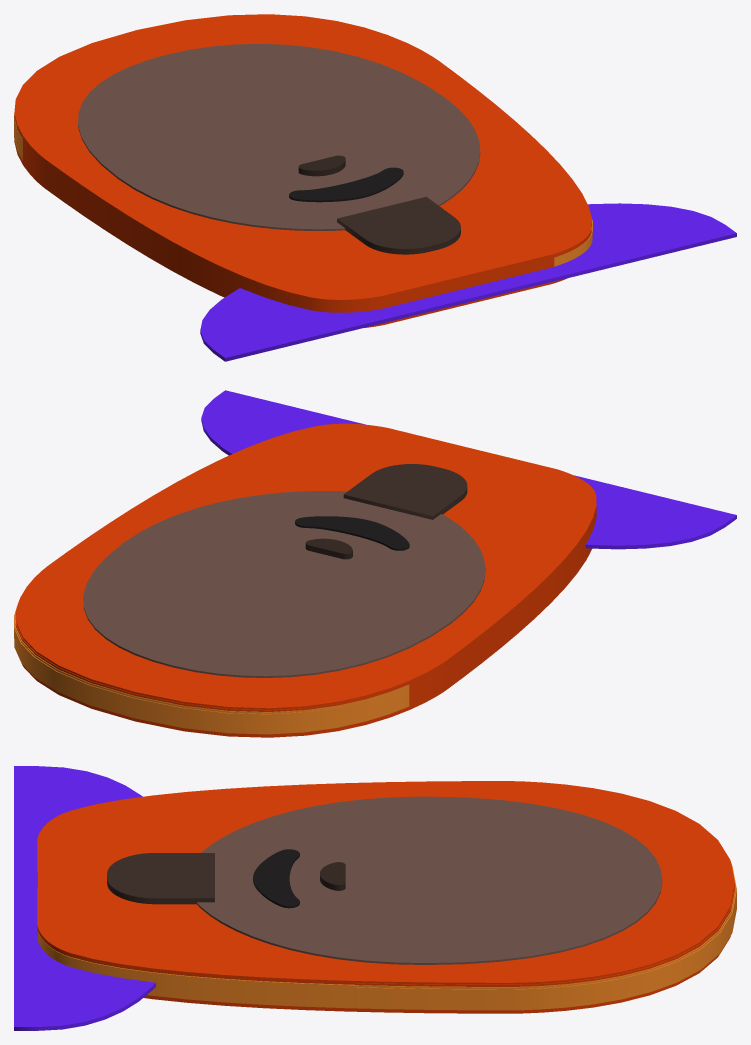
The model's file is emoji_u1f469_1f3ff_200d_1f9b0.glb.
3 views of the same model, one above another, from view 1: azimuth 30°, elevation 25°; view 2: azimuth 150°, elevation 25°; view 3: azimuth 270°, elevation 25° (orthographic). The views are drawn at different scales.
Visible parts, largest first — view 1: emoji_u1f469_1f3ff_200d_1f9b0; view 2: emoji_u1f469_1f3ff_200d_1f9b0; view 3: emoji_u1f469_1f3ff_200d_1f9b0.
Part boxes in pixels (x1,y1,x2,y2): emoji_u1f469_1f3ff_200d_1f9b0: (14,14,736,361); emoji_u1f469_1f3ff_200d_1f9b0: (14,390,736,737); emoji_u1f469_1f3ff_200d_1f9b0: (14,766,736,1030).
Bounding box in the file's own units: 0.029 × 0.0024 × 0.034.
